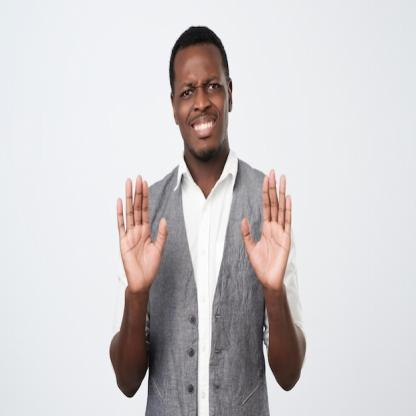stop: (240, 166, 295, 292), (115, 172, 168, 297)
